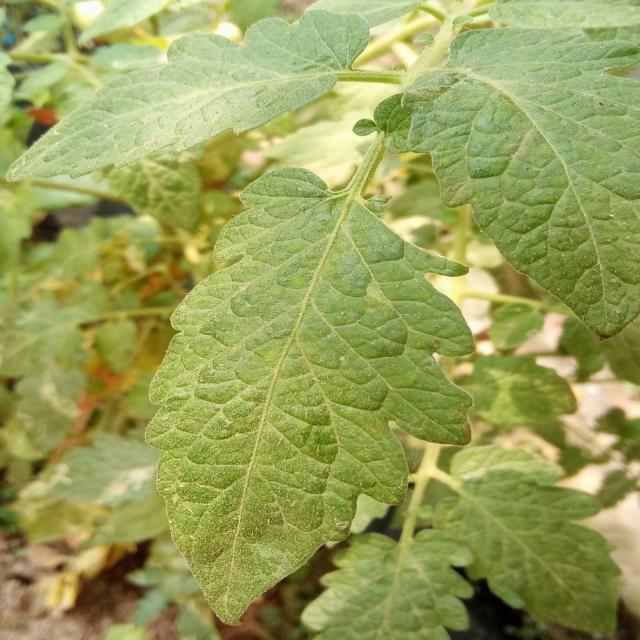Healthy: (19, 114, 552, 640), (0, 0, 387, 197), (403, 28, 639, 337)
